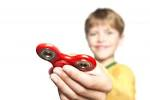fidget_kid_spinner_toys: (31, 33, 93, 85)
